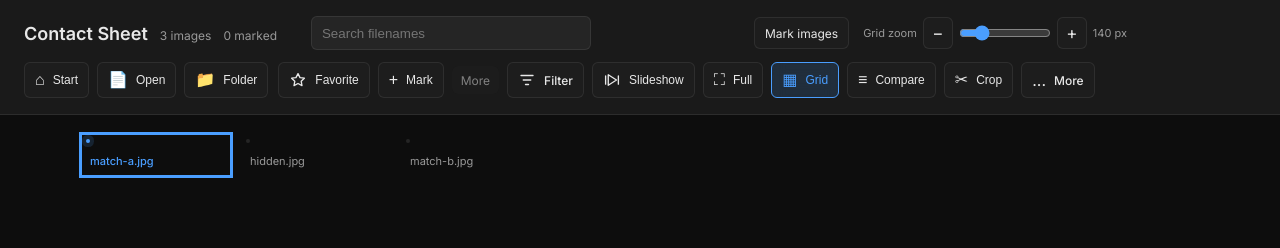
Test: ContactSheet › uses displayed result order for shift selection and removes hidden selections
The image size is (1280, 248).
Type "match" into the search field labelled "Search filenames".
click(451, 33); type("match")  # box [311, 16, 591, 50]
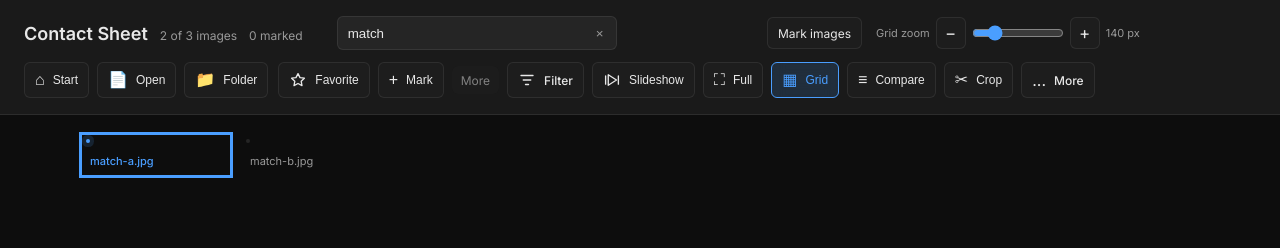
Click the text "match-a.jpg".
click(156, 155)  # box [86, 139, 226, 171]
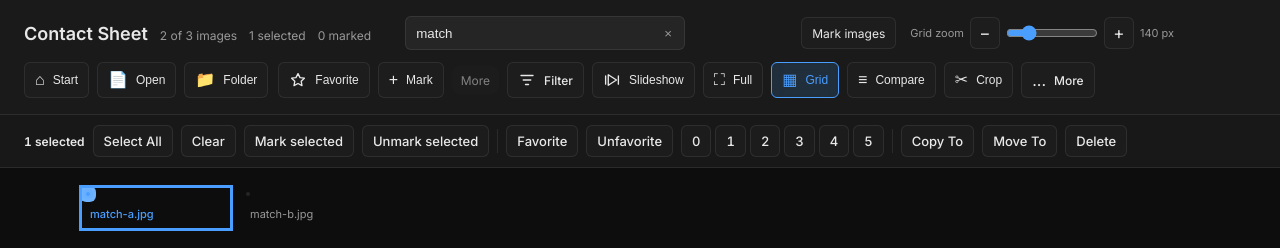
Click the text "match-b.jpg".
click(316, 208)  # box [246, 192, 386, 224]
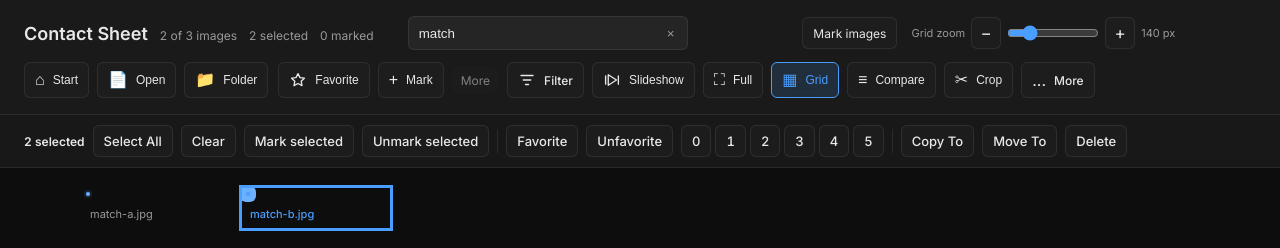
Expected: the text "hidden.jpg" is not shown
Expected: the text "2 selected" next to "2 of 3 images" is shown, [249, 28, 308, 42]
Replace the text in the search field named "Search filenames" with "match-b" at (548, 33), box [408, 16, 688, 50]
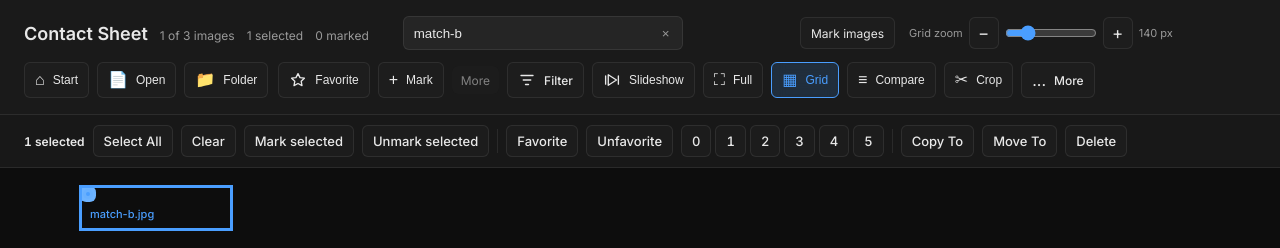
Expected: the text "1 selected" next to "1 of 3 images" is shown, [247, 28, 303, 42]
